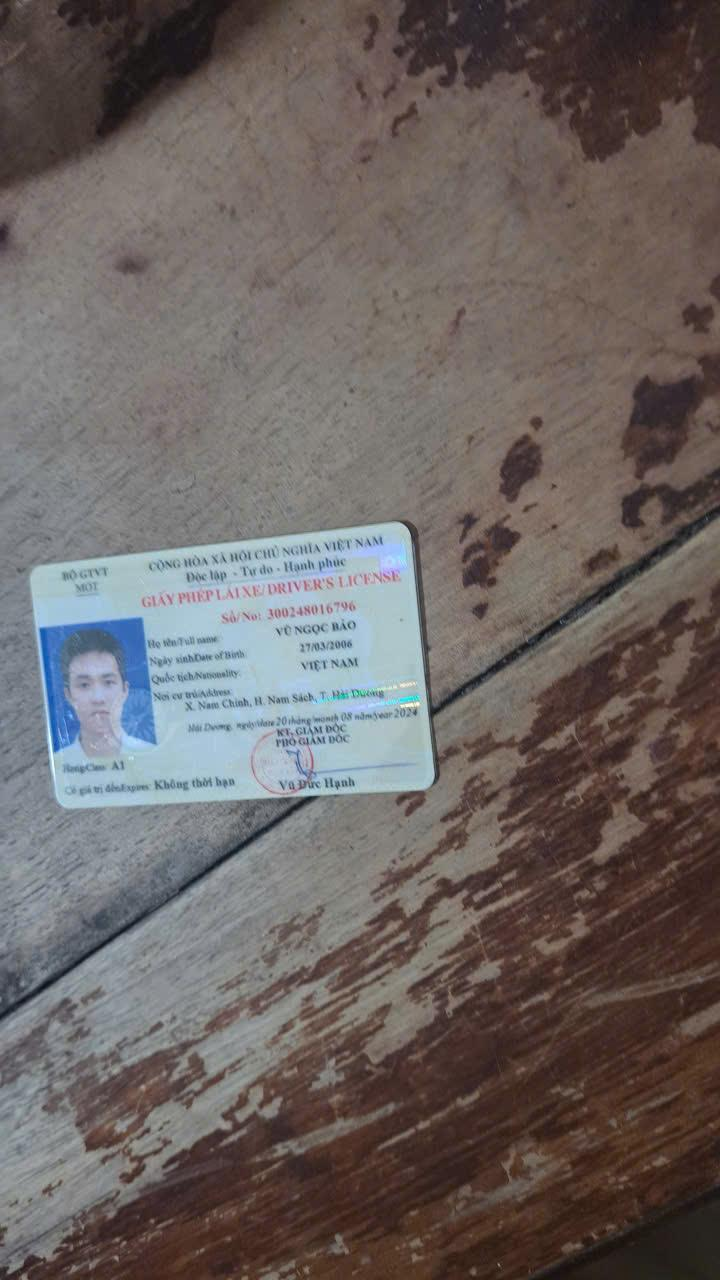gplx: (22, 519, 445, 812)
